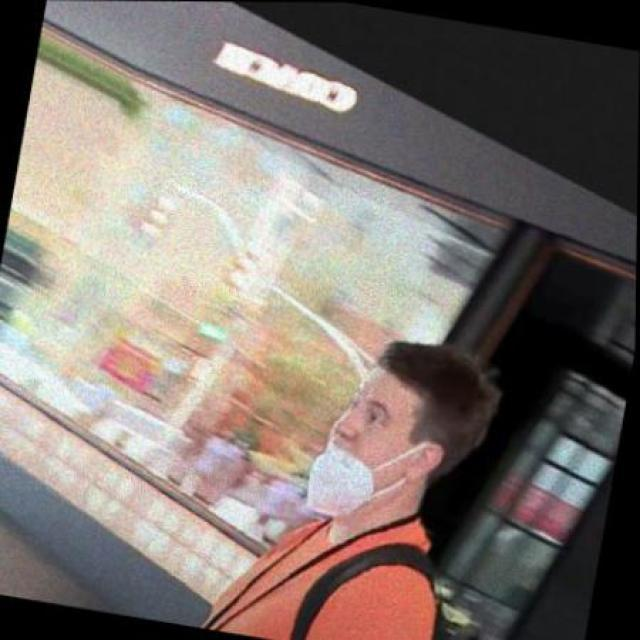hairnet: (306, 381, 404, 522)
